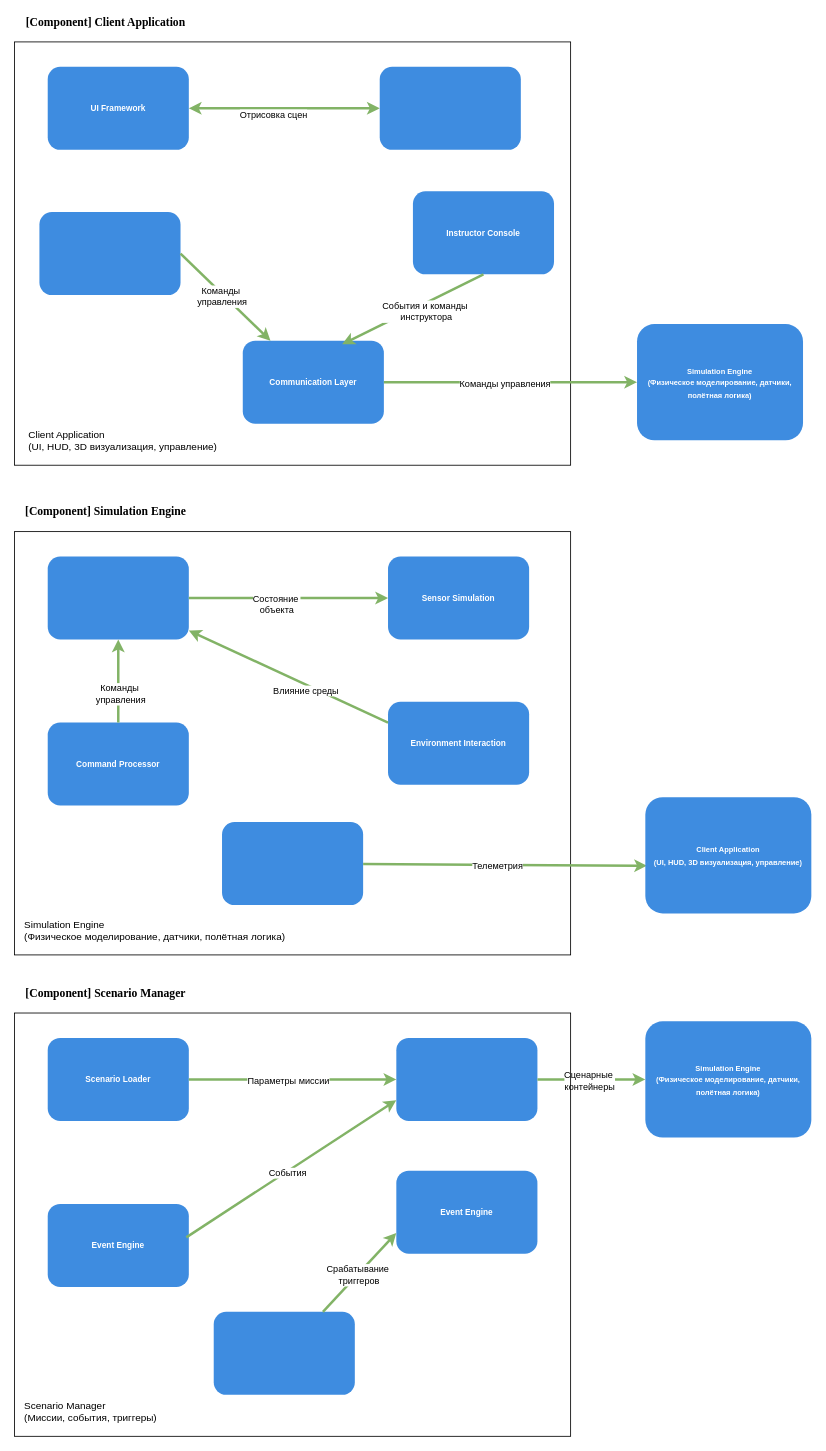
This 826x1451 diagram has some shape labels left out. Each missing label, with the centre of its shape:
3D Renderer: the point at 449,107
Input Handler: the point at 109,253
Mission Controller: the point at 466,1079
Physics Engine: the point at 117,597
State Synchronization: the point at 292,863
Trigger Evaluator: the point at 283,1352
